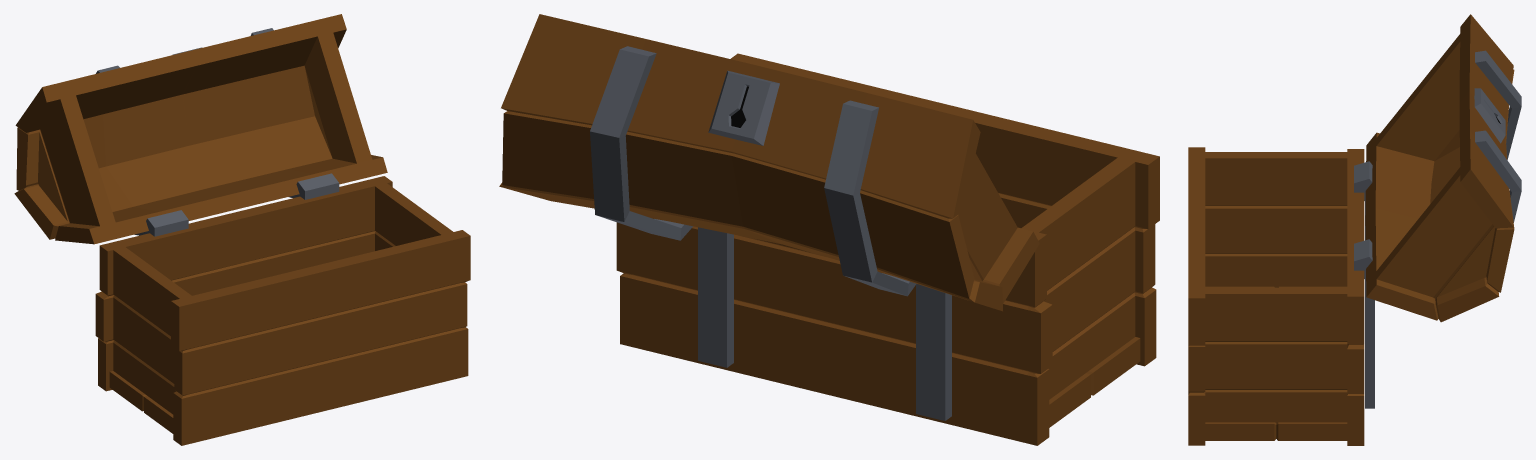
Rendered from OpenChest.fbx.
The picture shows the model from 3 angles, left to right: view 1: azimuth 30°, elevation 25°; view 2: azimuth 150°, elevation 25°; view 3: azimuth 270°, elevation 25°; orthographic projection. The views are drawn at different scales.
Visible parts, largest first — view 1: OpenChest; view 2: OpenChest; view 3: OpenChest.
Boxes of the visible parts, <box> form: OpenChest: <box>14,14,470,445</box>; OpenChest: <box>499,14,1159,445</box>; OpenChest: <box>1188,14,1521,445</box>.
Size of the model in its own units: 97.59 by 74.89 by 80.76.
